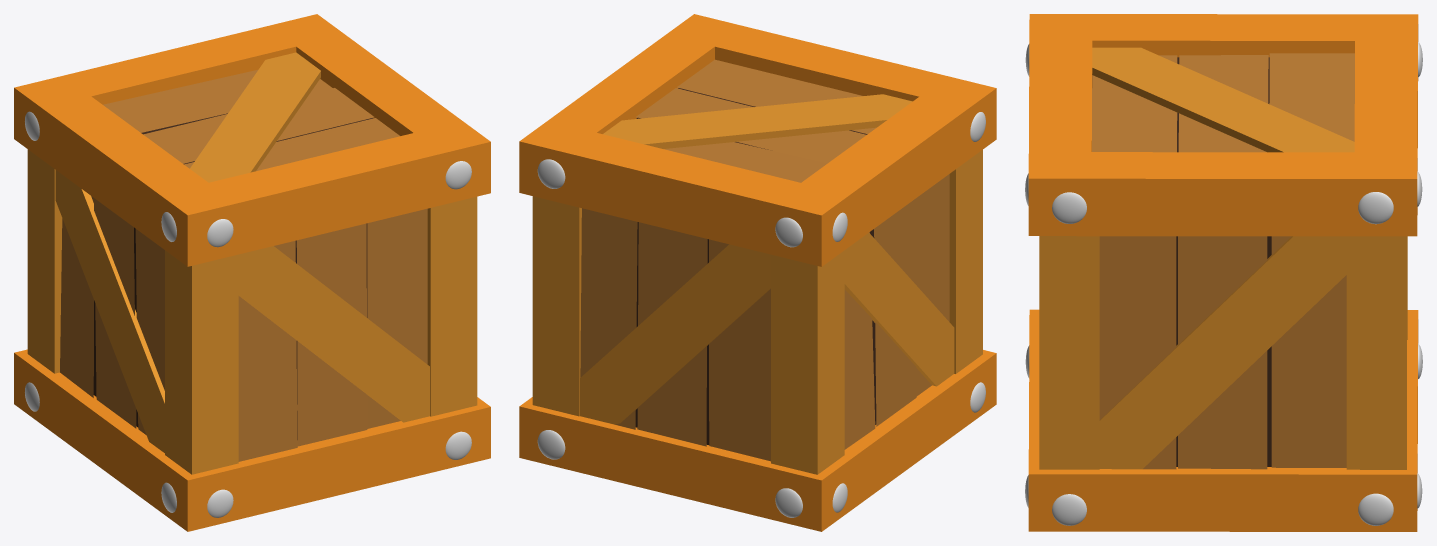
The picture shows the model from 3 angles, left to right: view 1: azimuth 30°, elevation 25°; view 2: azimuth 150°, elevation 25°; view 3: azimuth 270°, elevation 25°; orthographic projection. The views are drawn at different scales.
Parts seen in each view (by area): view 1: Cube.031, Cube.003, Cube.002, Cube.026, Cube.001, Plane.002, Cube.015, Plane.013, Plane.014, Cube.020, Cube.004, Plane.012 (+10 smaller); view 2: Cube.031, Cube.003, Cube.004, Cube.005, Cube.007, Cube.020, Plane.020, Plane.019, Cube.015, Plane.015, Cube.002, Plane.006 (+10 smaller); view 3: Cube.031, Cube.003, Cube.021, Cube.001, Cube.007, Plane.005, Plane.003, Plane.004, Cube.020, Plane.012, Plane.011, Plane.010 (+5 smaller).
Part boxes in pixels (bbox=[...]): Cube.031: bbox=[14, 14, 490, 266]; Cube.003: bbox=[14, 349, 490, 531]; Cube.002: bbox=[165, 250, 238, 474]; Cube.026: bbox=[238, 246, 429, 422]; Cube.001: bbox=[427, 196, 477, 416]; Plane.002: bbox=[296, 223, 367, 446]; Cube.015: bbox=[55, 170, 164, 452]; Plane.013: bbox=[238, 240, 297, 461]; Plane.014: bbox=[367, 208, 427, 428]; Cube.020: bbox=[190, 52, 320, 182]; Cube.004: bbox=[27, 149, 62, 373]; Plane.012: bbox=[103, 70, 332, 132]; Cube.031: bbox=[519, 14, 996, 266]; Cube.003: bbox=[519, 350, 996, 531]; Cube.004: bbox=[771, 250, 844, 474]; Cube.005: bbox=[580, 244, 770, 424]; Cube.007: bbox=[532, 196, 581, 416]; Cube.020: bbox=[603, 94, 912, 148]; Plane.020: bbox=[637, 222, 707, 446]; Plane.019: bbox=[709, 239, 770, 461]; Cube.015: bbox=[844, 233, 954, 386]; Plane.015: bbox=[580, 208, 637, 429]; Cube.002: bbox=[949, 150, 982, 373]; Plane.006: bbox=[874, 200, 916, 426]; Cube.031: bbox=[1028, 14, 1418, 236]; Cube.003: bbox=[1028, 309, 1418, 531]; Cube.021: bbox=[1099, 236, 1346, 469]; Cube.001: bbox=[1039, 236, 1099, 469]; Cube.007: bbox=[1346, 236, 1406, 469]; Plane.005: bbox=[1178, 236, 1267, 469]; Plane.003: bbox=[1271, 236, 1346, 467]; Plane.004: bbox=[1099, 236, 1176, 469]; Cube.020: bbox=[1092, 47, 1354, 152]; Plane.012: bbox=[1269, 53, 1354, 141]; Plane.011: bbox=[1092, 55, 1177, 152]; Plane.010: bbox=[1178, 55, 1268, 152].
Bounding box in the file's own units: 1.8 × 1.76 × 1.8.
